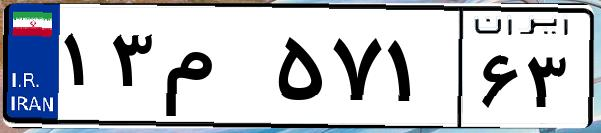1: (385, 28, 445, 110), (57, 26, 110, 100)
3: (525, 38, 570, 115), (110, 28, 158, 98)
5: (270, 28, 330, 110)
6: (475, 38, 525, 113)
7: (330, 28, 385, 110)
م: (158, 20, 270, 120)
